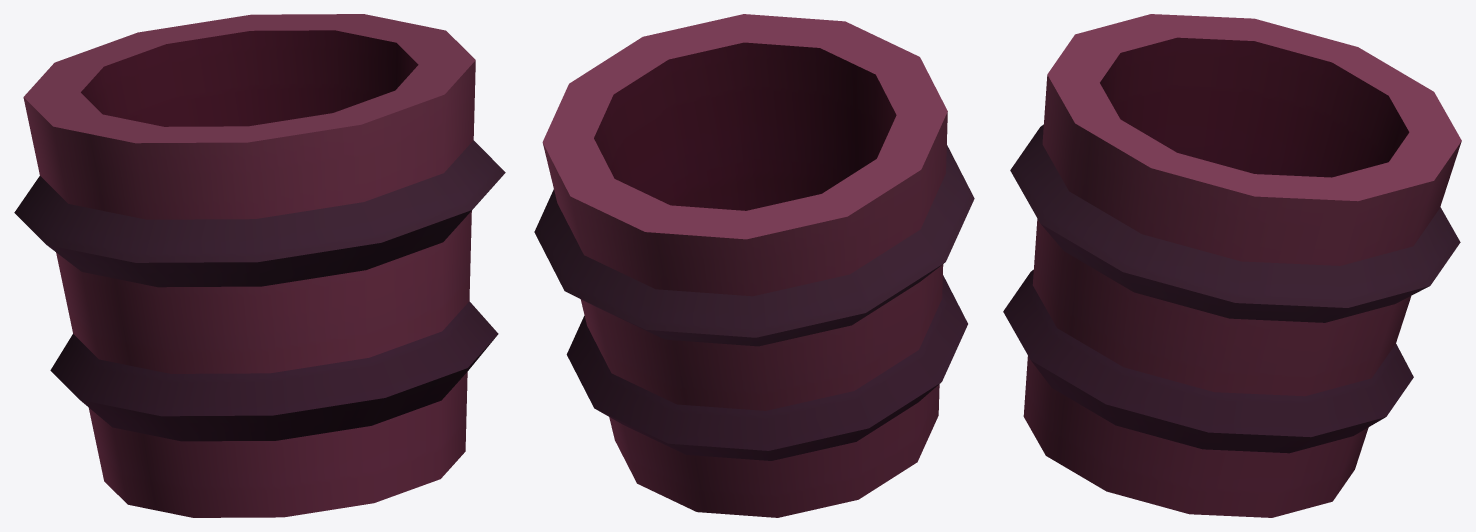
Rendered from Basket 01.FBX.
3 renders of one model, left to right at view 1: azimuth 30°, elevation 25°; view 2: azimuth 150°, elevation 25°; view 3: azimuth 270°, elevation 25°, orthographic. The views are drawn at different scales.
Parts seen in each view (by area): view 1: Basket 01; view 2: Basket 01; view 3: Basket 01.
Part boxes in pixels (x1=…): Basket 01: x1=14, y1=14, x2=505, y2=517; Basket 01: x1=534, y1=14, x2=974, y2=517; Basket 01: x1=1003, y1=14, x2=1461, y2=517.
Bounding box in the file's own units: 43.54 × 41.51 × 43.67.
